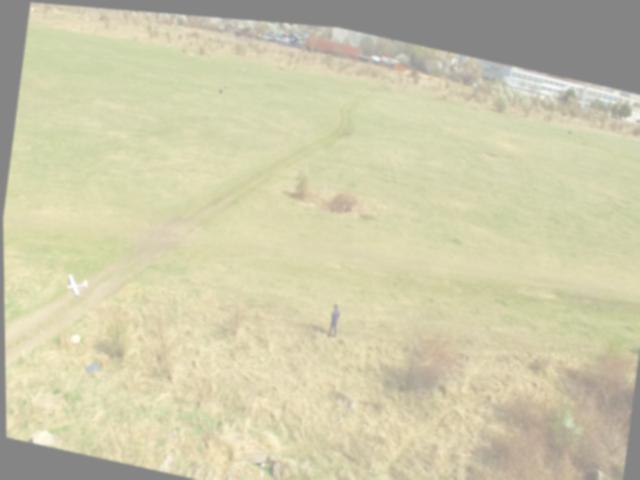plane: (64, 270, 88, 297)
